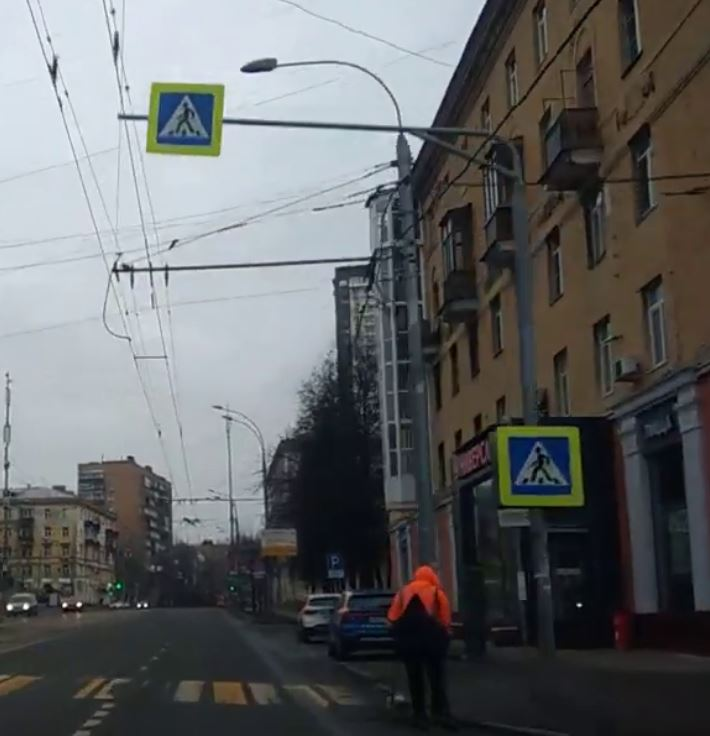Yaya Gecidi: (511, 433, 576, 496), (158, 91, 215, 146)
